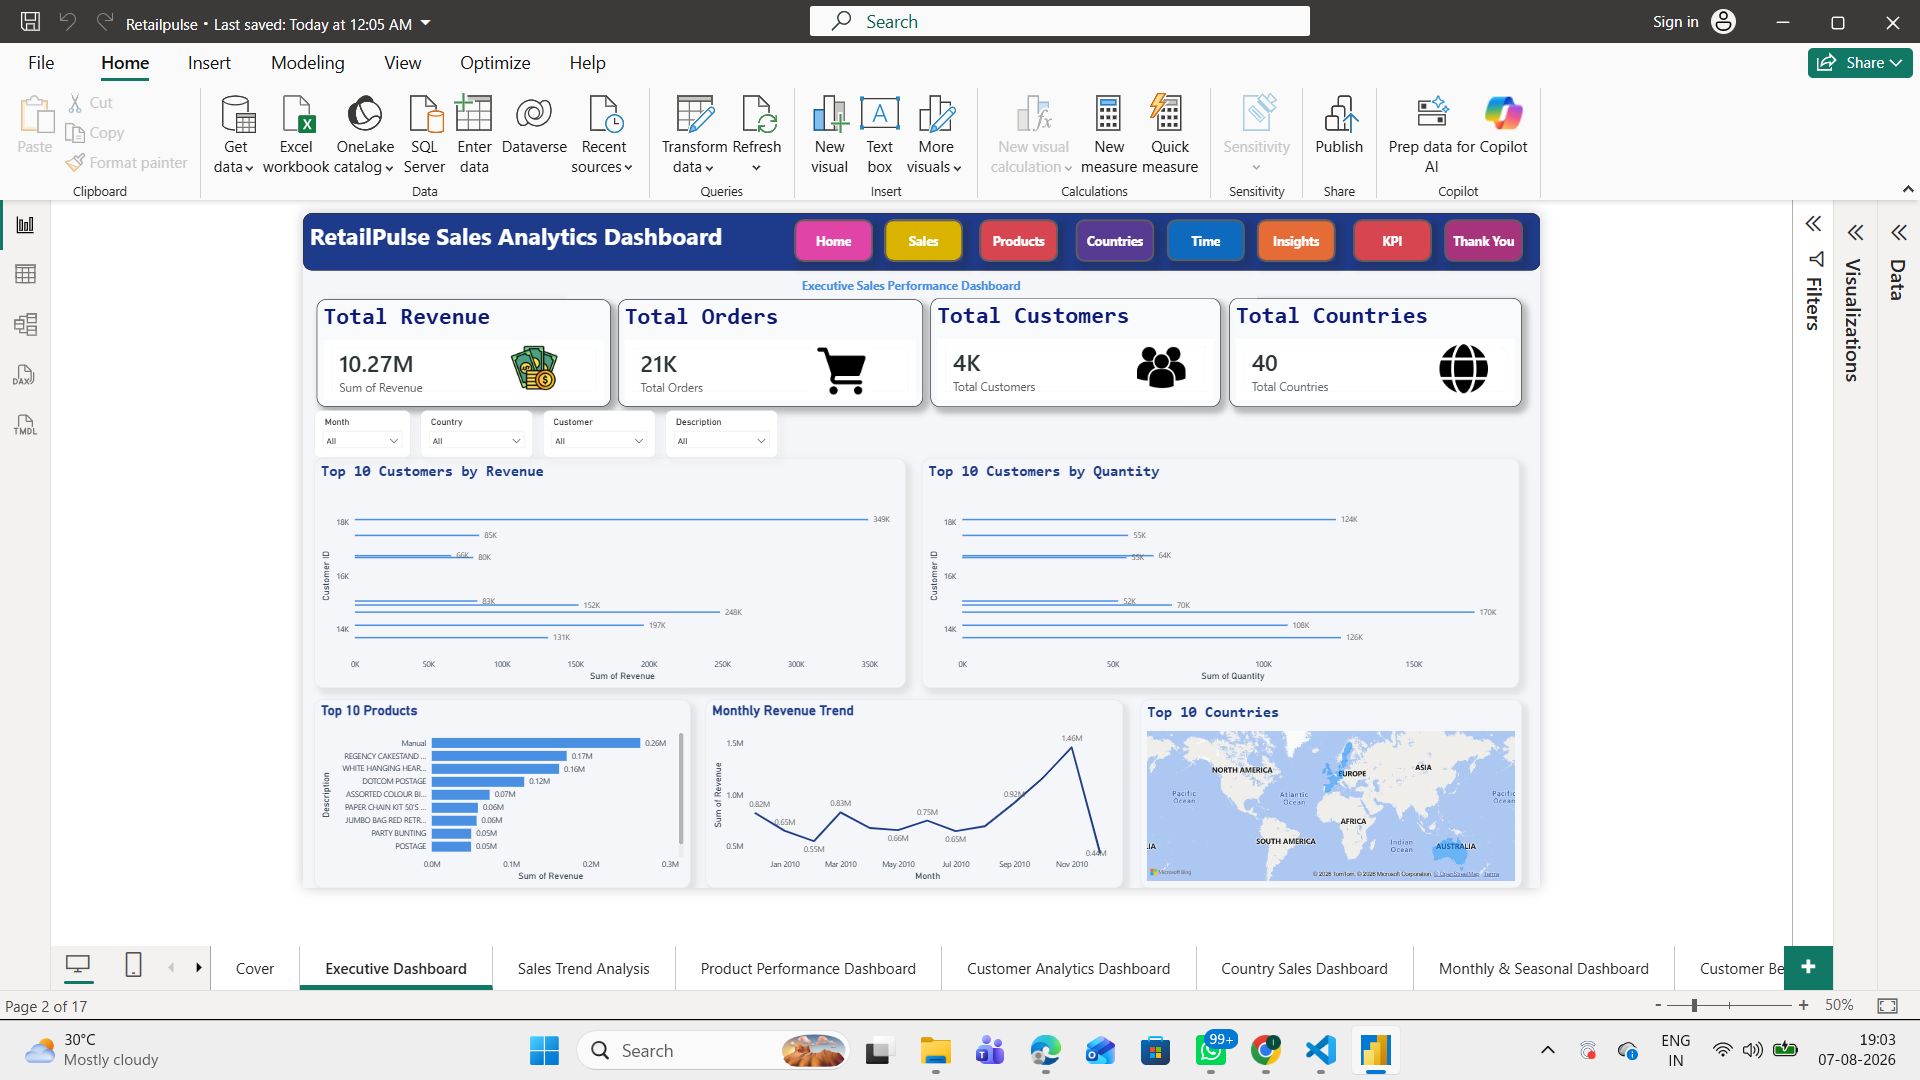

The page's visual inventory and layout, read from the dashboard file:
{"tool":"powerbi","page":{"name":"Executive Dashboard","canvas":[1980,1080],"ordinal":1},"visuals":[{"type":"textbox","box":[0,0,1980,92],"z":0},{"type":"cardVisual","title":"Total Revenue","fields":{"Data":["Sum(cleaned_online_retail.Revenue)"]},"box":[22,138,470,172],"z":1000},{"type":"cardVisual","title":"Total Orders","fields":{"Data":["cleaned_online_retail.Total Orders"]},"box":[504,138,488,172],"z":2000},{"type":"cardVisual","title":"Total Customers","fields":{"Data":["cleaned_online_retail.Total Customers"]},"box":[1004,136,464,174],"z":3000},{"type":"cardVisual","title":"Total Countries","fields":{"Data":["cleaned_online_retail.Total Countries"]},"box":[1482,136,468,174],"z":4000},{"type":"lineChart","title":"Monthly Revenue Trend","fields":{"Y":["Sum(cleaned_online_retail.Revenue)"],"Category":["cleaned_online_retail.Month"]},"box":[644,778,668,302],"z":5000},{"type":"clusteredBarChart","title":"Top 10 Products","fields":{"Category":["cleaned_online_retail.Description"],"Y":["Sum(cleaned_online_retail.Revenue)"]},"box":[18,778,602,302],"z":6000},{"type":"filledMap","title":"Top 10 Countries","fields":{"Category":["cleaned_online_retail.Country"]},"box":[1340,778,610,302],"z":7000},{"type":"slicer","title":"Month","fields":{"Values":["cleaned_online_retail.Month"]},"box":[18.6,315.7,154.3,75.7],"z":8000},{"type":"slicer","title":"Country","fields":{"Values":["cleaned_online_retail.Country"]},"box":[187.1,315.7,180,75.7],"z":9000},{"type":"textbox","box":[420,98,1106,38],"z":10000},{"type":"image","box":[320,210,100,76],"z":11000},{"type":"image","box":[814,212,96,78],"z":12000},{"type":"image","box":[1320,208,106,78],"z":13000},{"type":"image","box":[1804,210,106,78],"z":14000},{"type":"slicer","title":"Customer","fields":{"Values":["cleaned_online_retail.Customer ID"]},"box":[384.3,315.7,180,75.7],"z":15000},{"type":"slicer","title":"Description","fields":{"Values":["cleaned_online_retail.Description"]},"box":[580,315.7,180,75.7],"z":16000},{"type":"clusteredBarChart","title":"Top 10 Customers by Revenue","fields":{"Category":["cleaned_online_retail.Customer ID"],"Y":["Sum(cleaned_online_retail.Revenue)"]},"box":[18,392,946,368],"z":17000},{"type":"clusteredBarChart","title":"Top 10 Customers by Quantity","fields":{"Category":["cleaned_online_retail.Customer ID"],"Y":["Sum(cleaned_online_retail.Quantity)"]},"box":[990,392,956,368],"z":18000},{"type":"actionButton","box":[1082.5,10,126,68],"z":19000},{"type":"actionButton","box":[930,10,126,68],"z":20000},{"type":"actionButton","box":[785,10,126,68],"z":21000},{"type":"actionButton","box":[1235,10,126,68],"z":22000},{"type":"actionButton","box":[1382.5,10,125,67.5],"z":23000},{"type":"actionButton","box":[1525,10,126,68],"z":24000},{"type":"actionButton","box":[1680,10,126,68],"z":25000},{"type":"actionButton","box":[1825,10,126,68],"z":26000}]}

Visuals, with their boxes on the page's 1980x1080 design canvas (x1, y1, x2, y2). These are canvas units, not pixel positions in the 1920x1080 screenshot, which may show the page scaled, cropped or inside an application window:
textbox: BBox(0, 0, 1980, 92)
"Total Revenue" cardVisual: BBox(22, 138, 492, 310)
"Total Orders" cardVisual: BBox(504, 138, 992, 310)
"Total Customers" cardVisual: BBox(1004, 136, 1468, 310)
"Total Countries" cardVisual: BBox(1482, 136, 1950, 310)
"Monthly Revenue Trend" lineChart: BBox(644, 778, 1312, 1080)
"Top 10 Products" clusteredBarChart: BBox(18, 778, 620, 1080)
"Top 10 Countries" filledMap: BBox(1340, 778, 1950, 1080)
"Month" slicer: BBox(19, 316, 173, 391)
"Country" slicer: BBox(187, 316, 367, 391)
textbox: BBox(420, 98, 1526, 136)
image: BBox(320, 210, 420, 286)
image: BBox(814, 212, 910, 290)
image: BBox(1320, 208, 1426, 286)
image: BBox(1804, 210, 1910, 288)
"Customer" slicer: BBox(384, 316, 564, 391)
"Description" slicer: BBox(580, 316, 760, 391)
"Top 10 Customers by Revenue" clusteredBarChart: BBox(18, 392, 964, 760)
"Top 10 Customers by Quantity" clusteredBarChart: BBox(990, 392, 1946, 760)
actionButton: BBox(1082, 10, 1208, 78)
actionButton: BBox(930, 10, 1056, 78)
actionButton: BBox(785, 10, 911, 78)
actionButton: BBox(1235, 10, 1361, 78)
actionButton: BBox(1382, 10, 1508, 78)
actionButton: BBox(1525, 10, 1651, 78)
actionButton: BBox(1680, 10, 1806, 78)
actionButton: BBox(1825, 10, 1951, 78)
